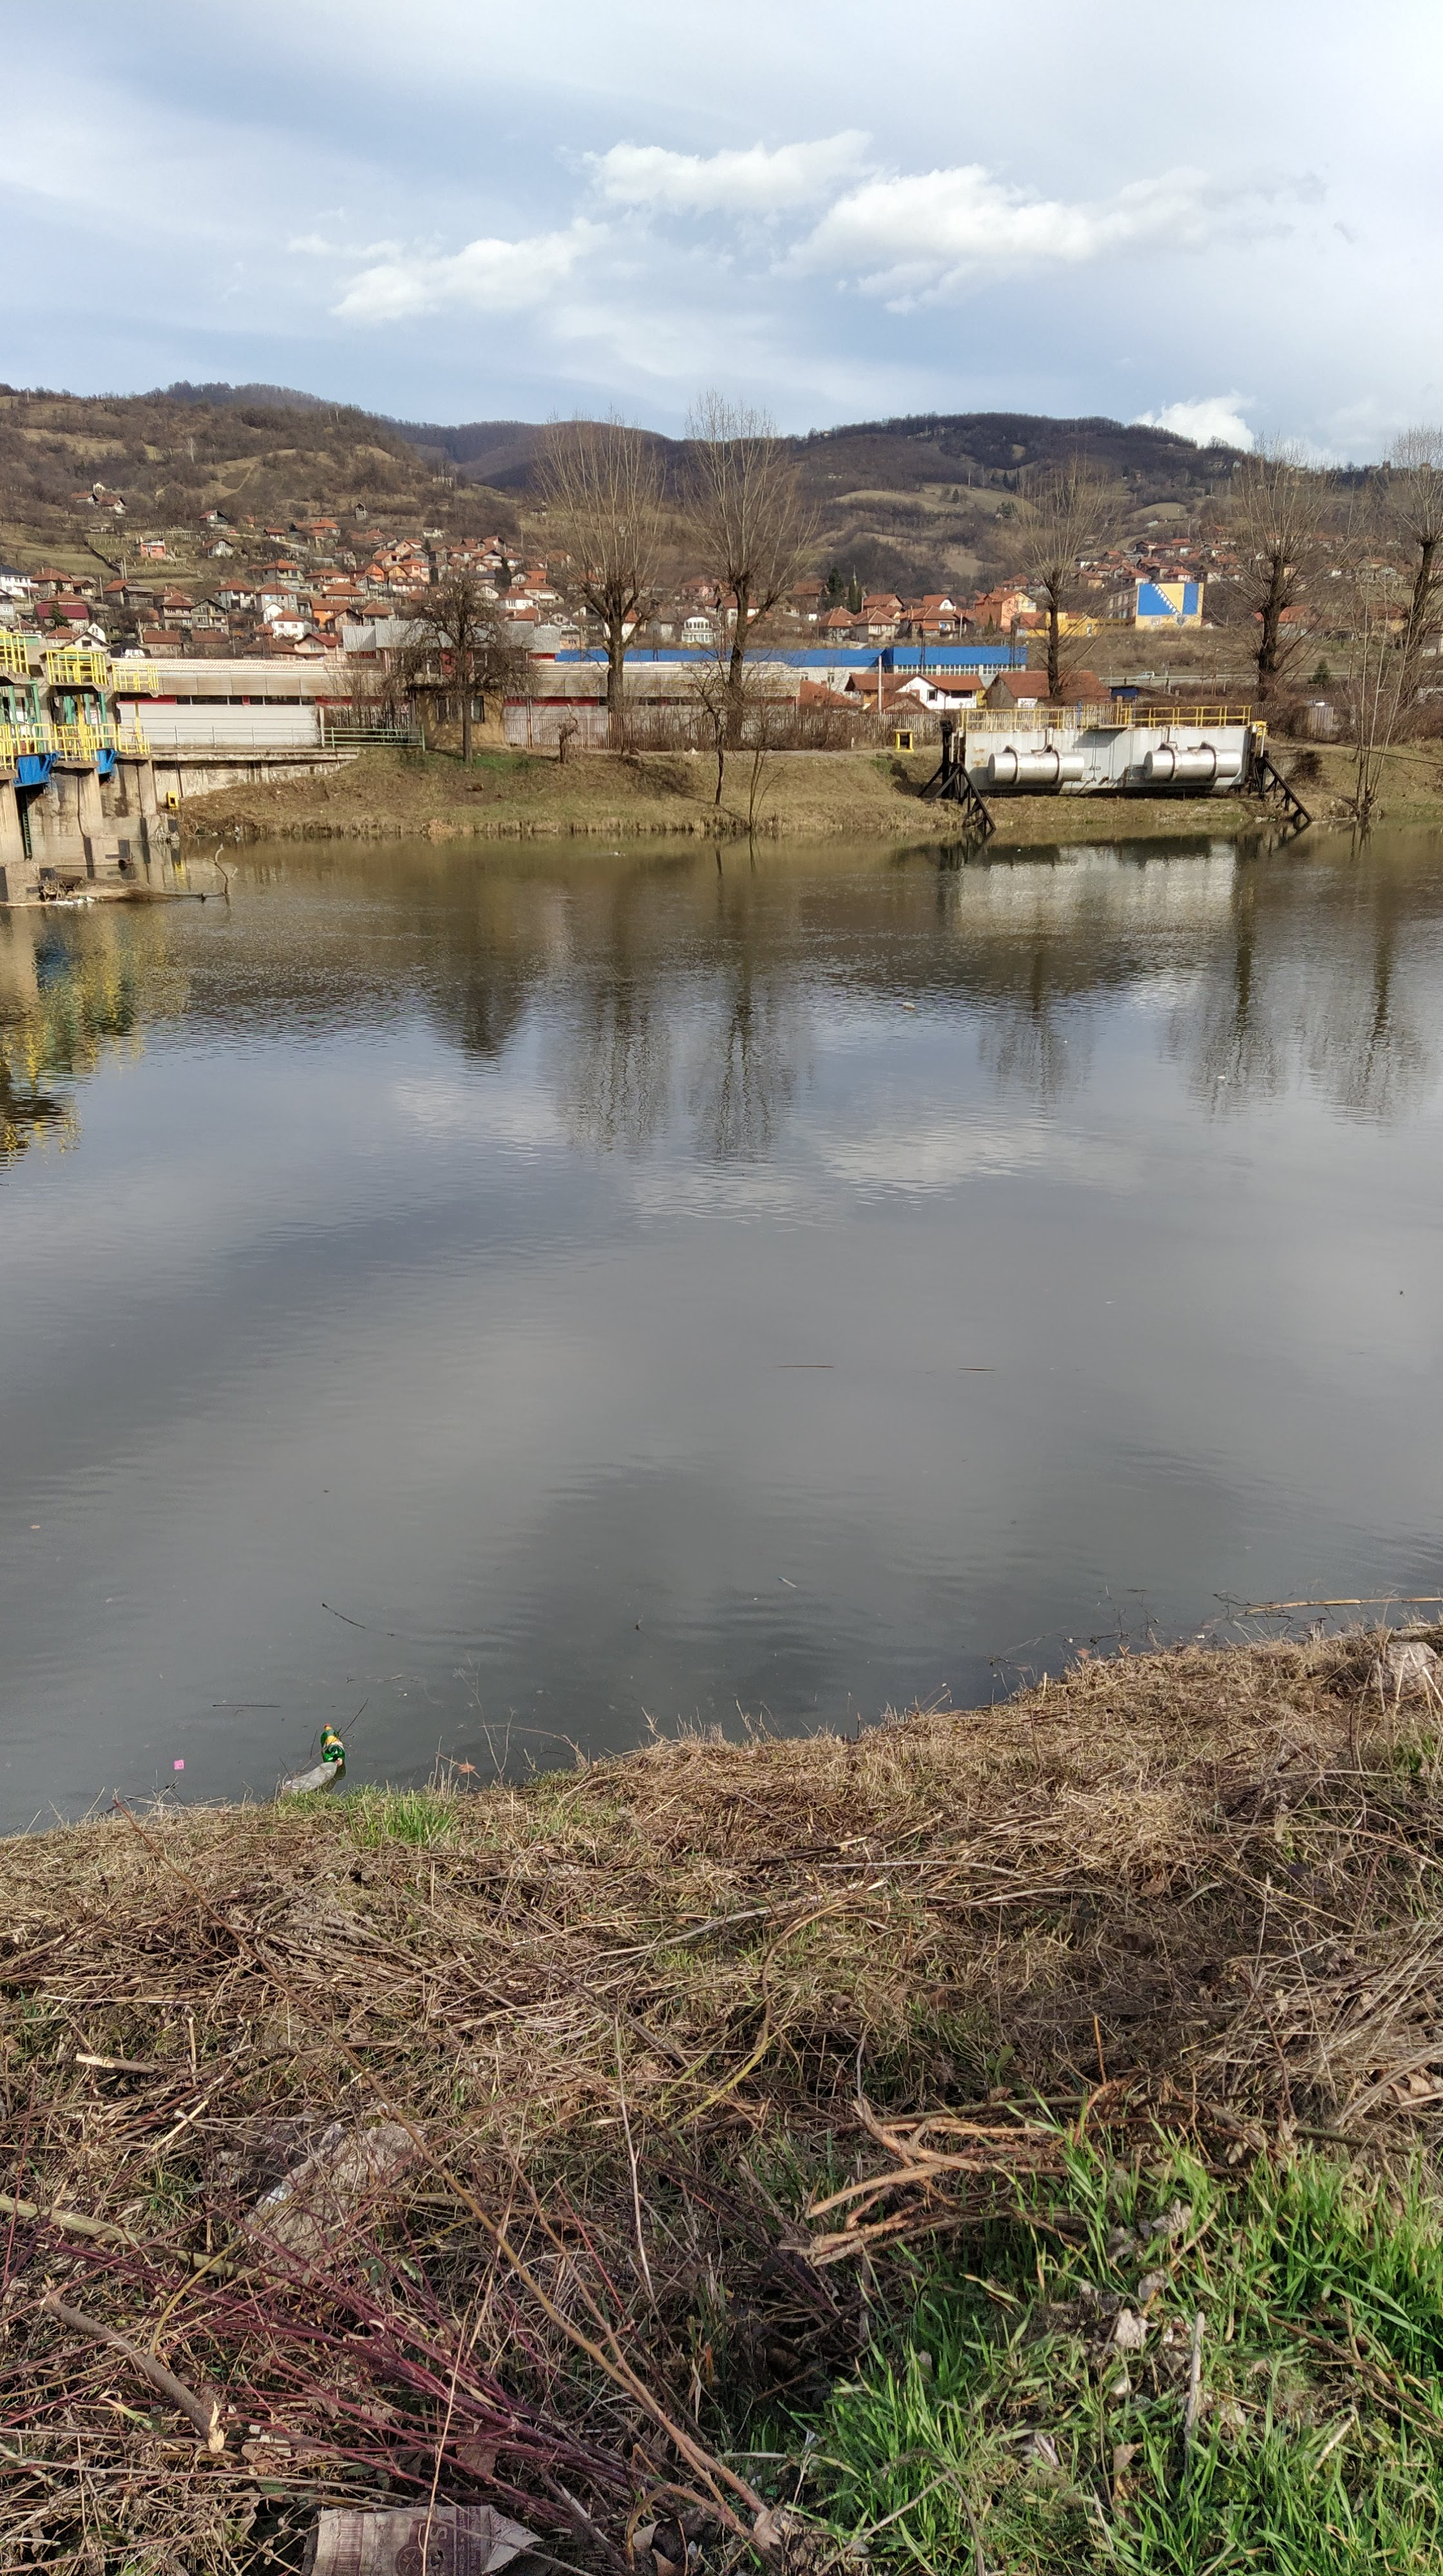Plastic Bottle: (283, 1759, 342, 1792), (320, 1723, 343, 1762), (903, 1001, 915, 1008)
